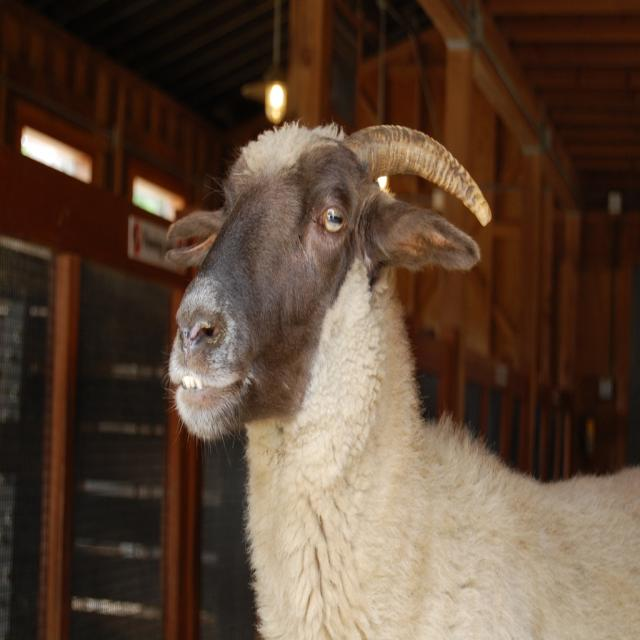Sheep: (142, 94, 587, 640)
